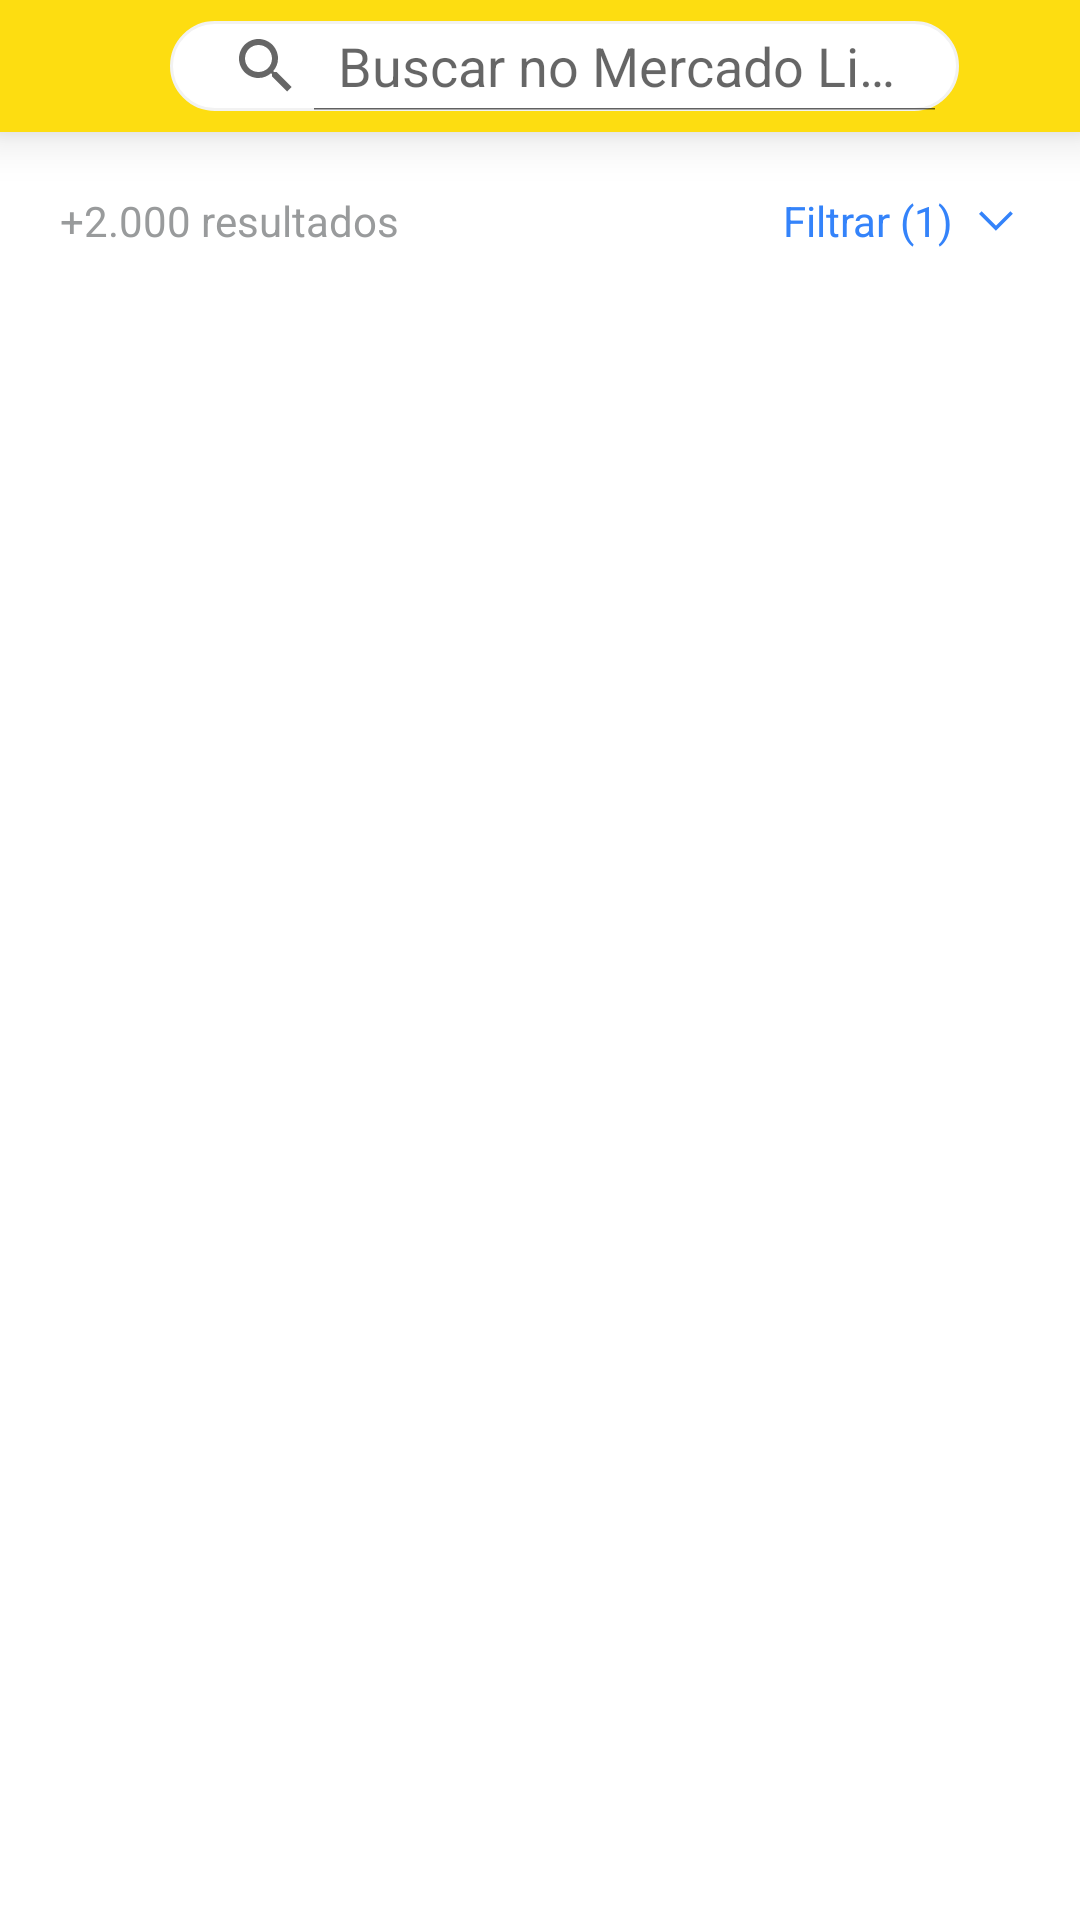

Named icons in this screenshot (1080*1920) and their bounding boxes, (x1, y1, x2, y2):
chevron down: (979, 211, 1013, 231)
